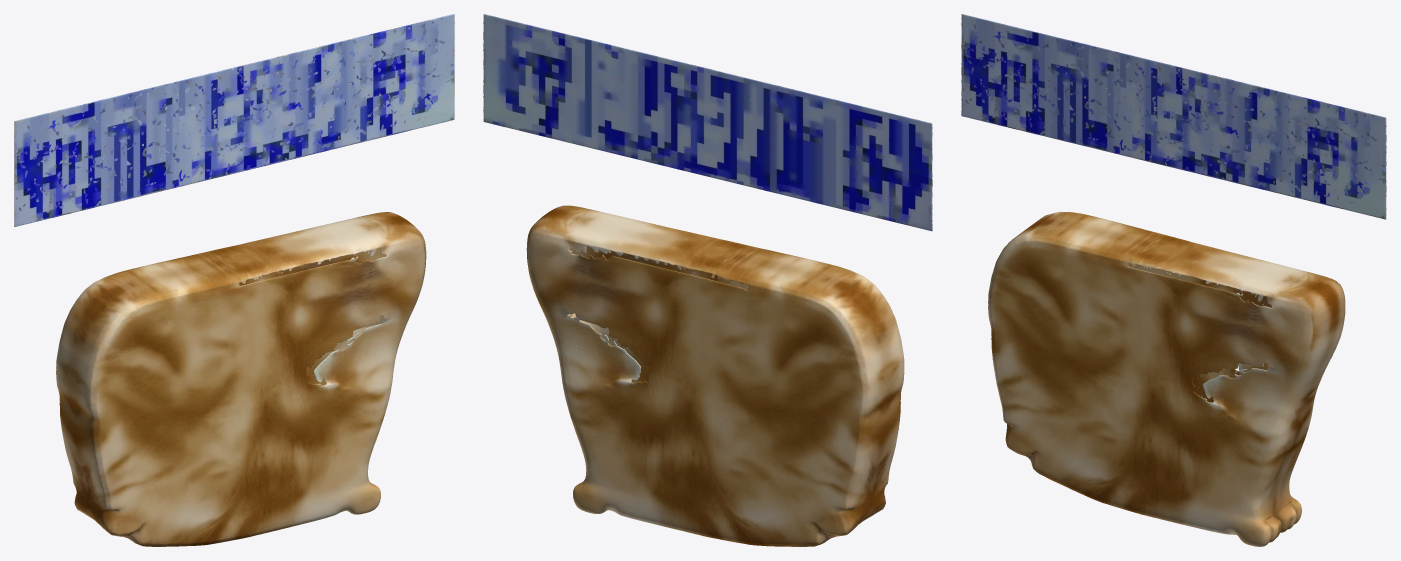
Rendered from gato_detalhado.glb.
The picture shows the model from 3 angles, left to right: view 1: azimuth 30°, elevation 25°; view 2: azimuth 150°, elevation 25°; view 3: azimuth 330°, elevation 25°; orthographic projection. The views are drawn at different scales.
Visible parts, largest first — view 1: world; view 2: world; view 3: world.
Boxes of the visible parts, x1,y1,x2,y2 form: world: (14,14,454,546); world: (483,14,932,546); world: (961,14,1386,546).
Size of the model in its own units: 1 by 0.988 by 0.159.
1 material, 1 textured.
